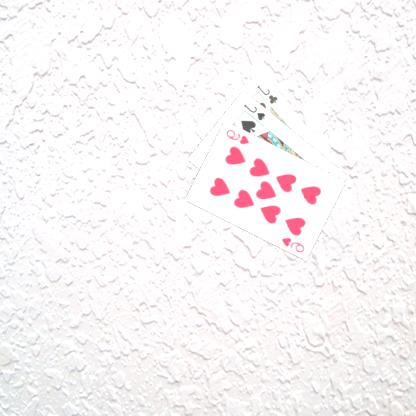9H: (280, 234, 308, 254), (225, 126, 252, 145)
JC: (256, 82, 281, 105)
JS: (242, 101, 268, 122)
